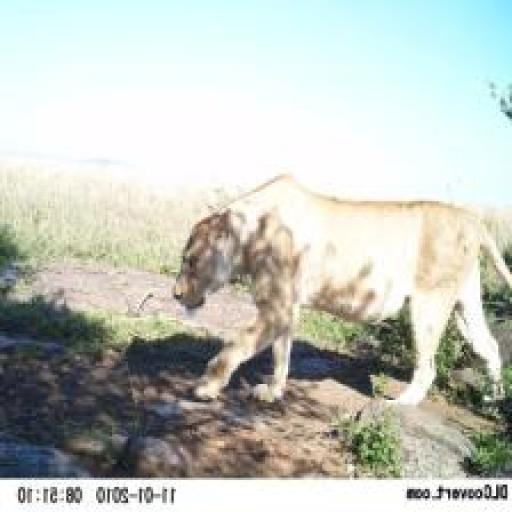lion: (155, 155, 510, 431)
